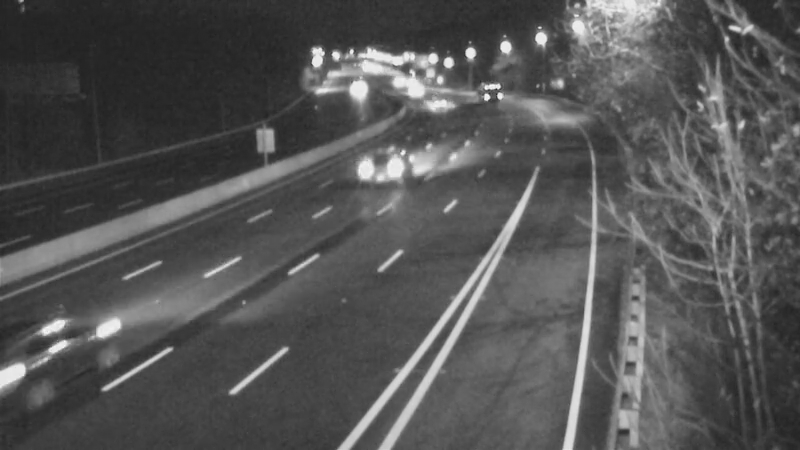vehicle: (14, 307, 124, 417), (345, 130, 425, 210), (464, 64, 514, 114), (393, 64, 443, 114), (410, 81, 460, 131), (338, 69, 388, 119)
